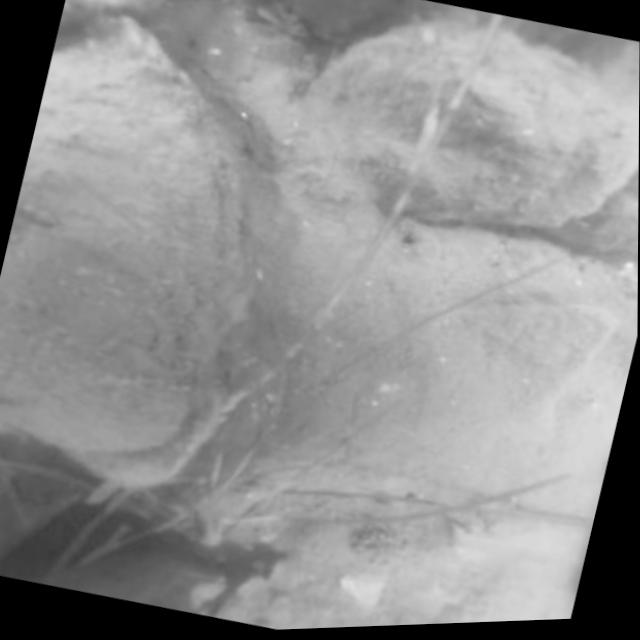Oyster-Closed: (0, 50, 254, 492)
Oyster-Indeterminate: (417, 35, 628, 229), (292, 9, 489, 210), (240, 559, 567, 629), (561, 169, 639, 252)
